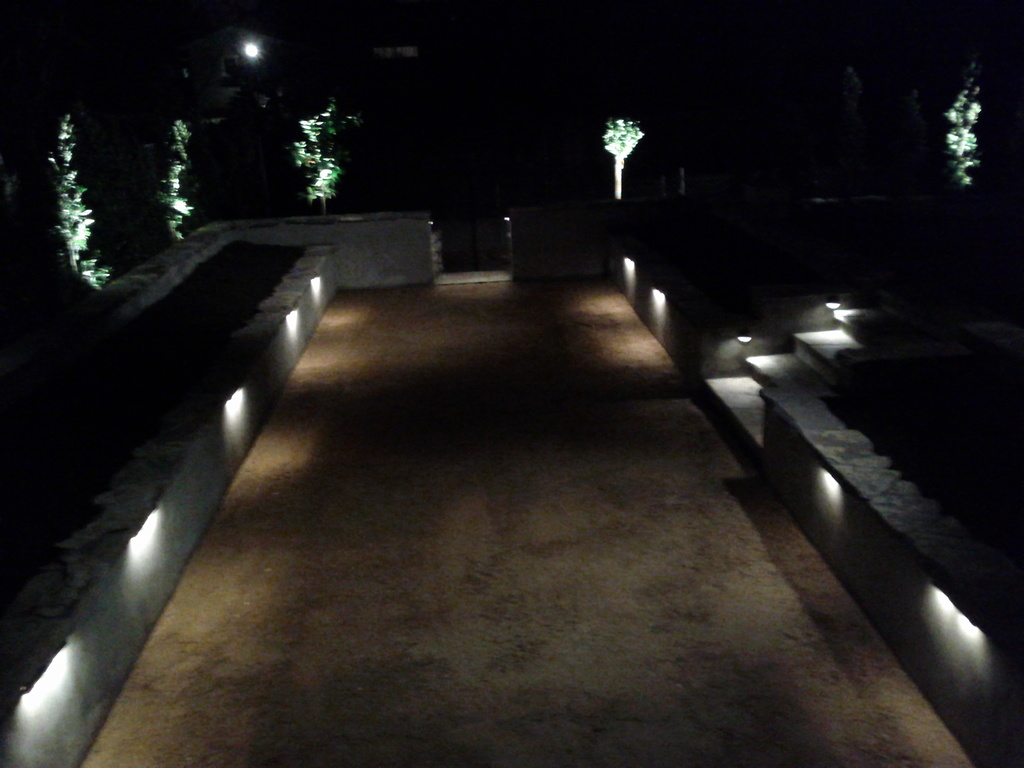Tree: (0, 106, 120, 291), (290, 88, 369, 211), (122, 119, 193, 246), (592, 92, 661, 204), (943, 56, 997, 188)
